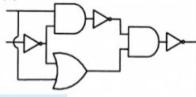and: (126, 23, 161, 66), (51, 2, 88, 37)
not: (165, 27, 187, 56), (90, 7, 114, 32), (22, 32, 43, 55)
or: (50, 50, 89, 91)
